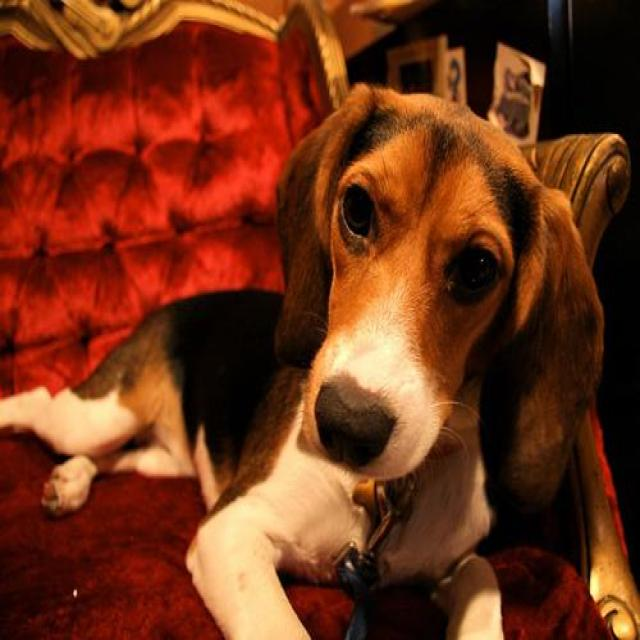beagle: (0, 82, 603, 638)
